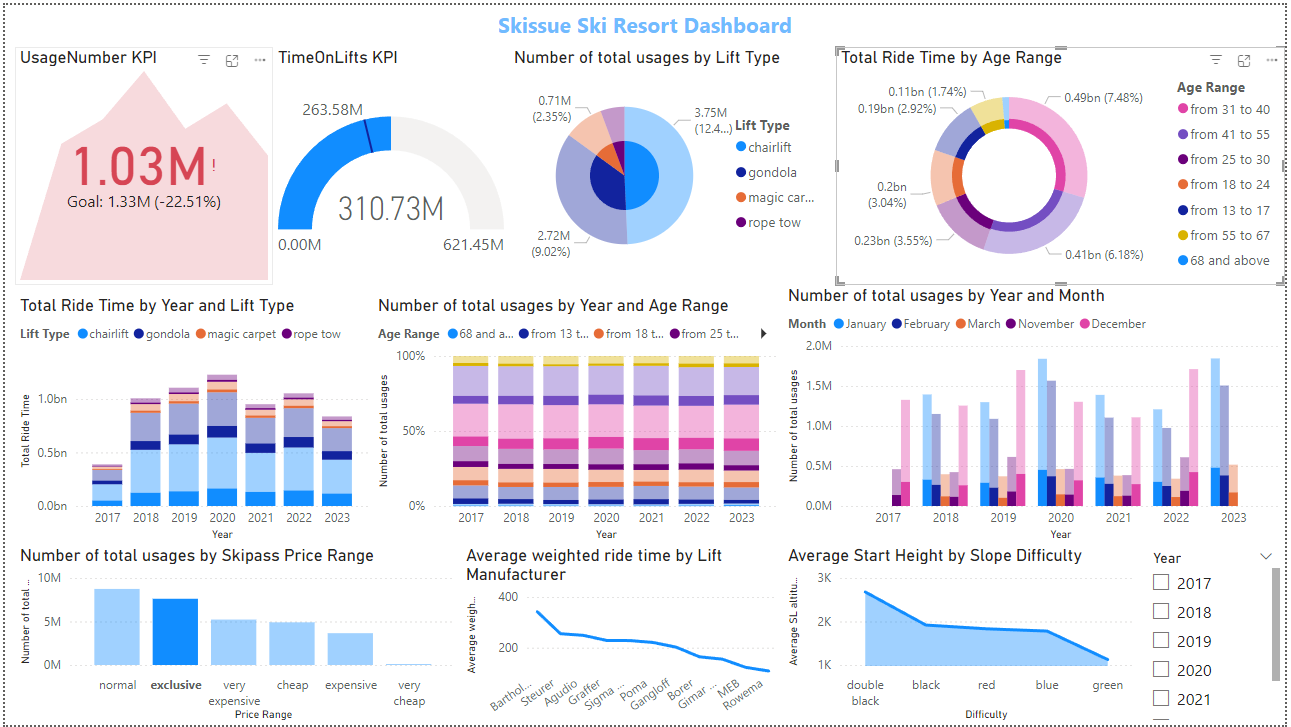

The dashboard page shown, as its layout file describes it:
{"tool":"powerbi","page":{"name":"Page 1","canvas":[1280,720],"ordinal":0},"visuals":[{"type":"kpi","title":"UsageNumber KPI","fields":{"TrendLine":["Date.Year"],"Indicator":["Ski Lift Usage.___UsageNumber Value"],"Goal":["Ski Lift Usage.UsageNumber Goal"]},"box":[9.7,41.8,258.7,238.3],"z":0},{"type":"gauge","title":"TimeOnLifts KPI","fields":{"TargetValue":["Ski Lift Usage.TimeOnLifts Goal"],"Y":["Ski Lift Usage.___TimeOnLifts Value"]},"box":[268.4,41.8,235.4,238.3],"z":1000},{"type":"columnChart","fields":{"Y":["Ski Lift Usage.Total Ride Time"],"Category":["Date.Year"],"Series":["Ski Lift.Lift Type"]},"box":[9.7,289.8,357.9,250],"z":2000},{"type":"hundredPercentStackedColumnChart","fields":{"Category":["Date.Year"],"Series":["Customers.Age Range"],"Y":["Ski Lift Usage.Number of total usages"]},"box":[367.7,289.8,410.5,250],"z":3000},{"type":"pieChart","fields":{"Y":["Ski Lift Usage.Number of total usages"],"Category":["Ski Lift.Lift Type"]},"box":[503.8,41.8,326.8,238.3],"z":4000},{"type":"donutChart","fields":{"Y":["Ski Lift Usage.Total Ride Time"],"Category":["Customers.Age Range"]},"box":[830.6,41.8,449.4,238.3],"z":5000},{"type":"clusteredColumnChart","fields":{"Y":["Ski Lift Usage.Number of total usages"],"Category":["Date.Year"],"Series":["Date.Month"]},"box":[778.1,280.1,501.9,259.7],"z":6000},{"type":"columnChart","title":"Number of total usages by Skipass Price Range","fields":{"Category":["Ski Pass.Price Range"],"Y":["Ski Lift Usage.Number of total usages"]},"box":[9.7,539.8,446.4,179.9],"z":7000},{"type":"textbox","box":[434.8,0,410.5,41.8],"z":8000},{"type":"lineChart","fields":{"Y":["Measures.Average weighted ride time"],"Category":["Ski Lift.Lift Manufacturer"]},"box":[456,540,322,180],"z":9000},{"type":"areaChart","title":"Average Start Height by Slope Difficulty","fields":{"Y":["Measures.Average SL altitude"],"Category":["Ski Slope.Difficulty"]},"box":[778.1,539.8,357,179.9],"z":10000},{"type":"slicer","fields":{"Values":["Date.Year"]},"box":[1135.1,539.8,144.9,179.9],"z":10001}]}

Visuals, with their boxes in screenshot pixels (x1, y1, x2, y2), scaled from the page's 1280x720 canvas onto the 1291x727 screenshot:
"UsageNumber KPI" kpi: 10, 42, 271, 283
"TimeOnLifts KPI" gauge: 271, 42, 508, 283
columnChart - Ski Lift Usage.Total Ride Time x Date.Year: 10, 293, 371, 545
hundredPercentStackedColumnChart - Date.Year x Customers.Age Range: 371, 293, 785, 545
pieChart - Ski Lift Usage.Number of total usages x Ski Lift.Lift Type: 508, 42, 838, 283
donutChart - Ski Lift Usage.Total Ride Time x Customers.Age Range: 838, 42, 1290, 283
clusteredColumnChart - Ski Lift Usage.Number of total usages x Date.Year: 785, 283, 1290, 545
"Number of total usages by Skipass Price Range" columnChart: 10, 545, 460, 726
textbox: 439, 0, 853, 42
lineChart - Measures.Average weighted ride time x Ski Lift.Lift Manufacturer: 460, 545, 785, 726
"Average Start Height by Slope Difficulty" areaChart: 785, 545, 1145, 726
slicer - Date.Year: 1145, 545, 1290, 726
